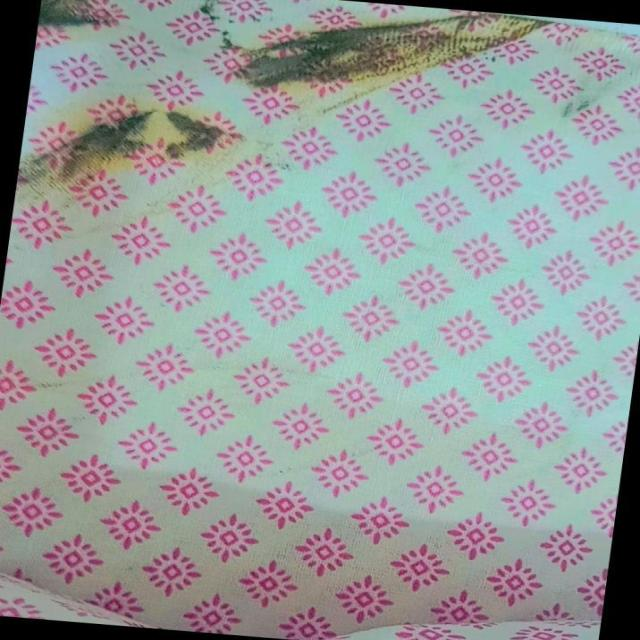stain: (202, 0, 578, 121), (16, 89, 240, 209), (38, 0, 138, 36)
